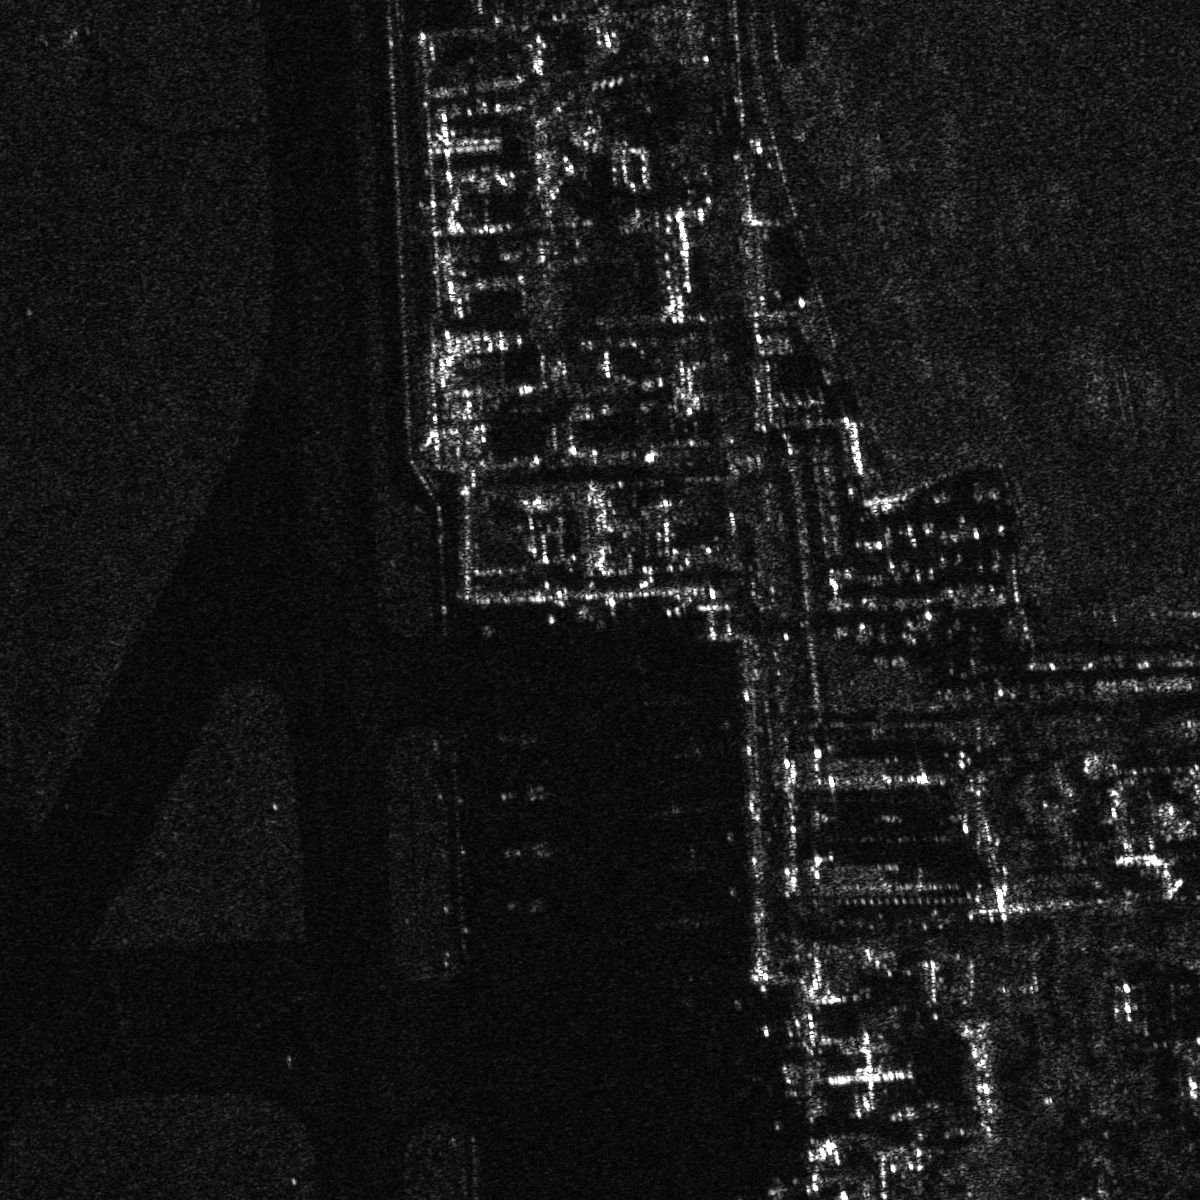ARJ21: (493, 837, 563, 866), (501, 890, 555, 919)
other: (496, 775, 557, 810)
